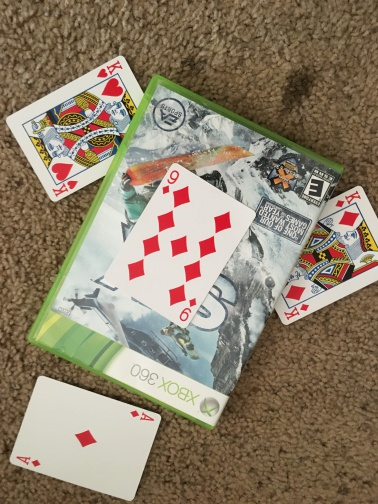ace: (10, 374, 161, 501)
king: (6, 58, 149, 202), (271, 186, 378, 326)
nine: (105, 162, 256, 329)
